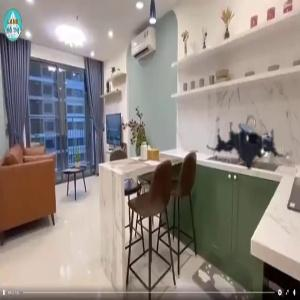drone: (201, 98, 296, 193)
